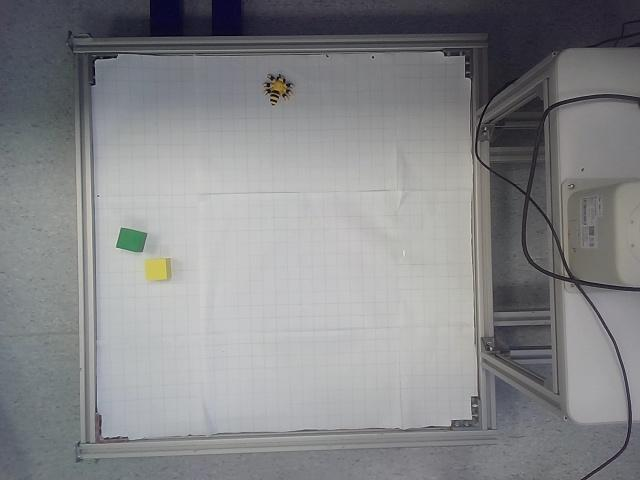frelon: (263, 74, 293, 106)
